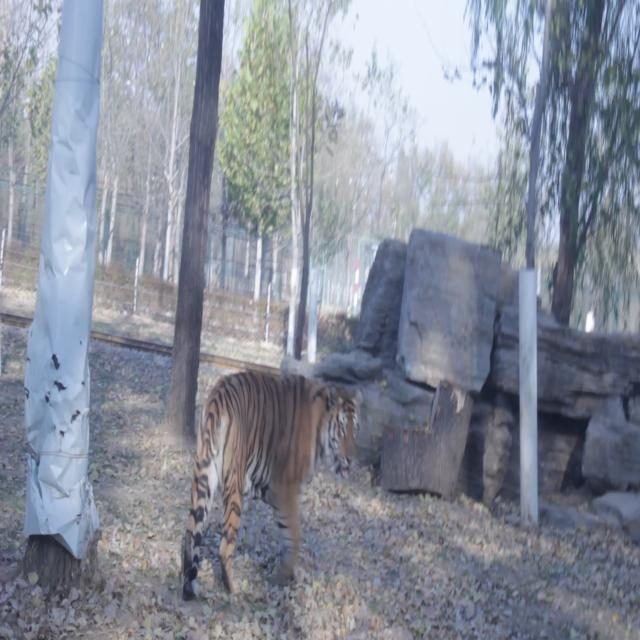Tiger: (158, 328, 380, 609)
